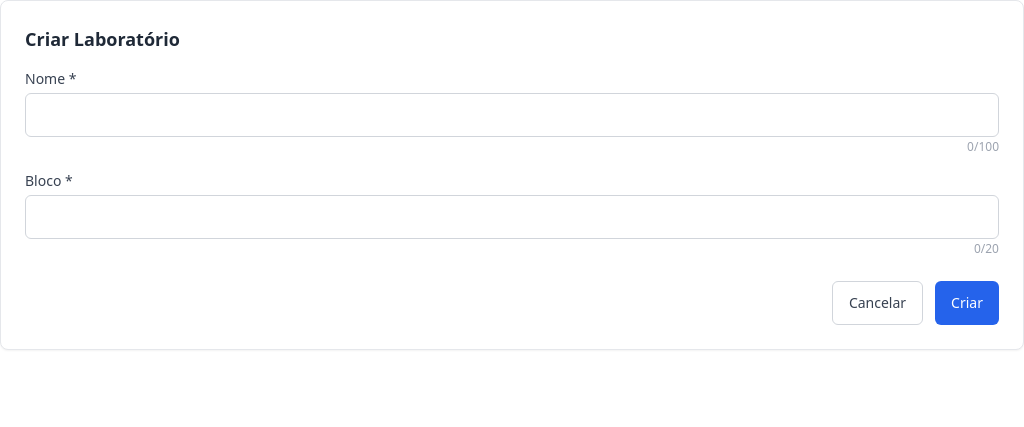
Test: LaboratoryForm › displays API 400 error message on the form
Type "Lab X" into the field labelled "Nome *" at (512, 115), box top-left (25, 93), bottom-right (999, 137)
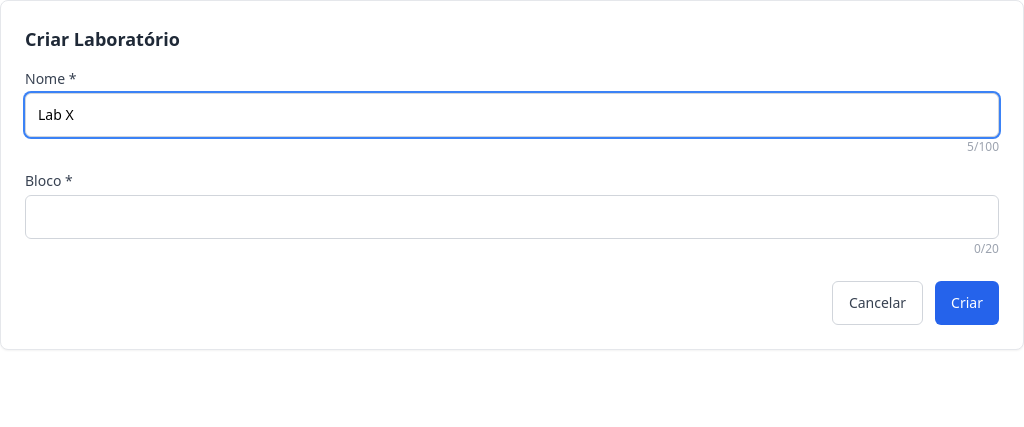
Type "A" into the field labelled "Bloco *" at (512, 217), box top-left (25, 195), bottom-right (999, 239)
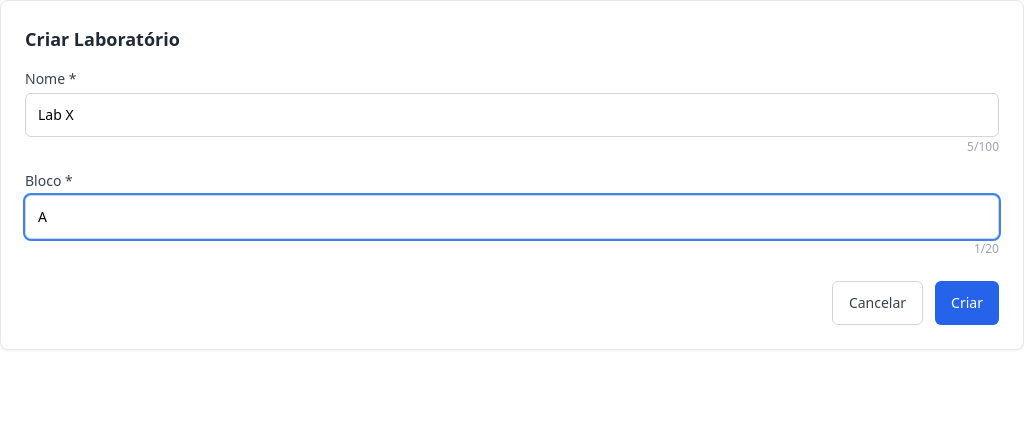
Click the button "Criar" at (967, 303), box top-left (935, 281), bottom-right (999, 325)
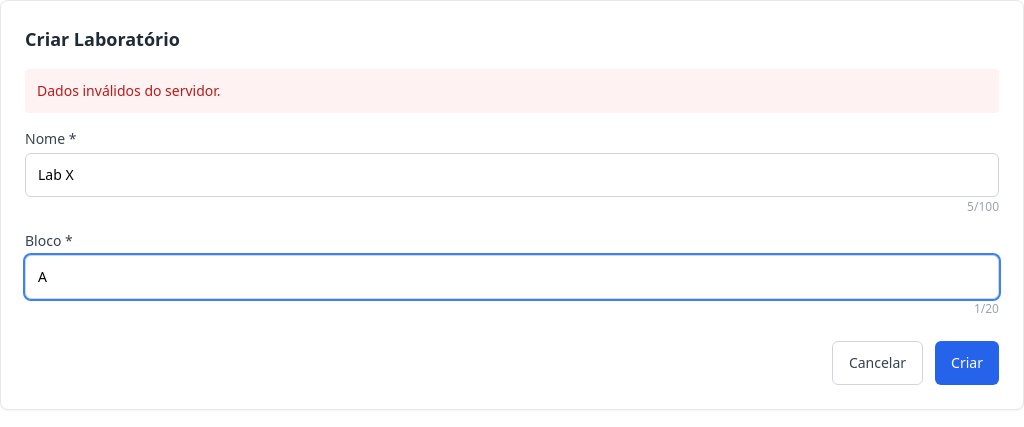
Result: the text "Dados inválidos do servidor." is shown at top-left (25, 69), bottom-right (999, 113)
